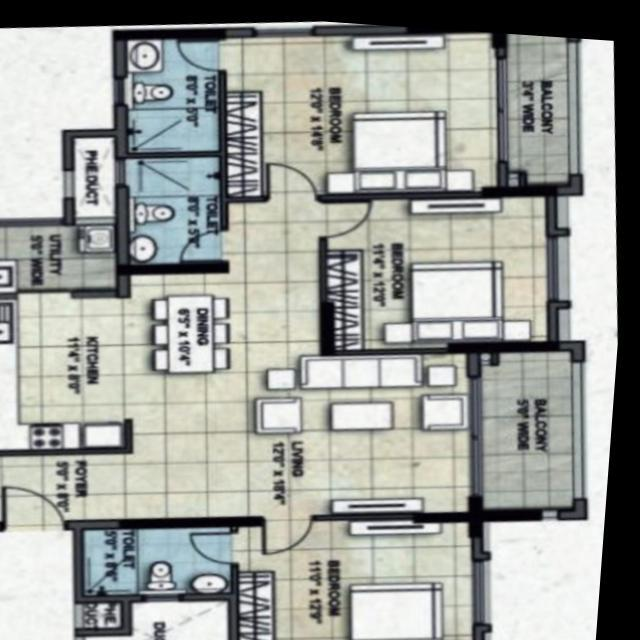Balcony-Sitout: (468, 334, 593, 509), (498, 26, 583, 192)
Bedroom: (318, 182, 557, 341), (244, 513, 502, 640)
Bedroom with Toilet: (114, 20, 506, 195)
Dining: (152, 283, 241, 376)
Enterance-Foyer: (0, 453, 79, 533)
Kitchen: (0, 287, 135, 452)
Living: (248, 340, 482, 518)
Toilet: (82, 511, 248, 598), (121, 145, 228, 269), (121, 28, 228, 151)
Utility: (0, 216, 129, 296)
